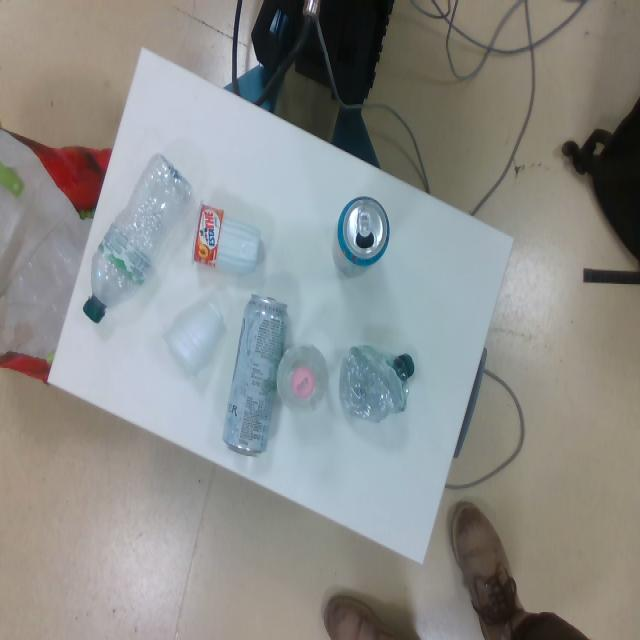aluminum: (224, 294, 290, 460), (332, 194, 392, 279)
plastic: (80, 148, 196, 326), (339, 342, 418, 428), (161, 290, 229, 378), (190, 198, 263, 278), (278, 339, 332, 417)
